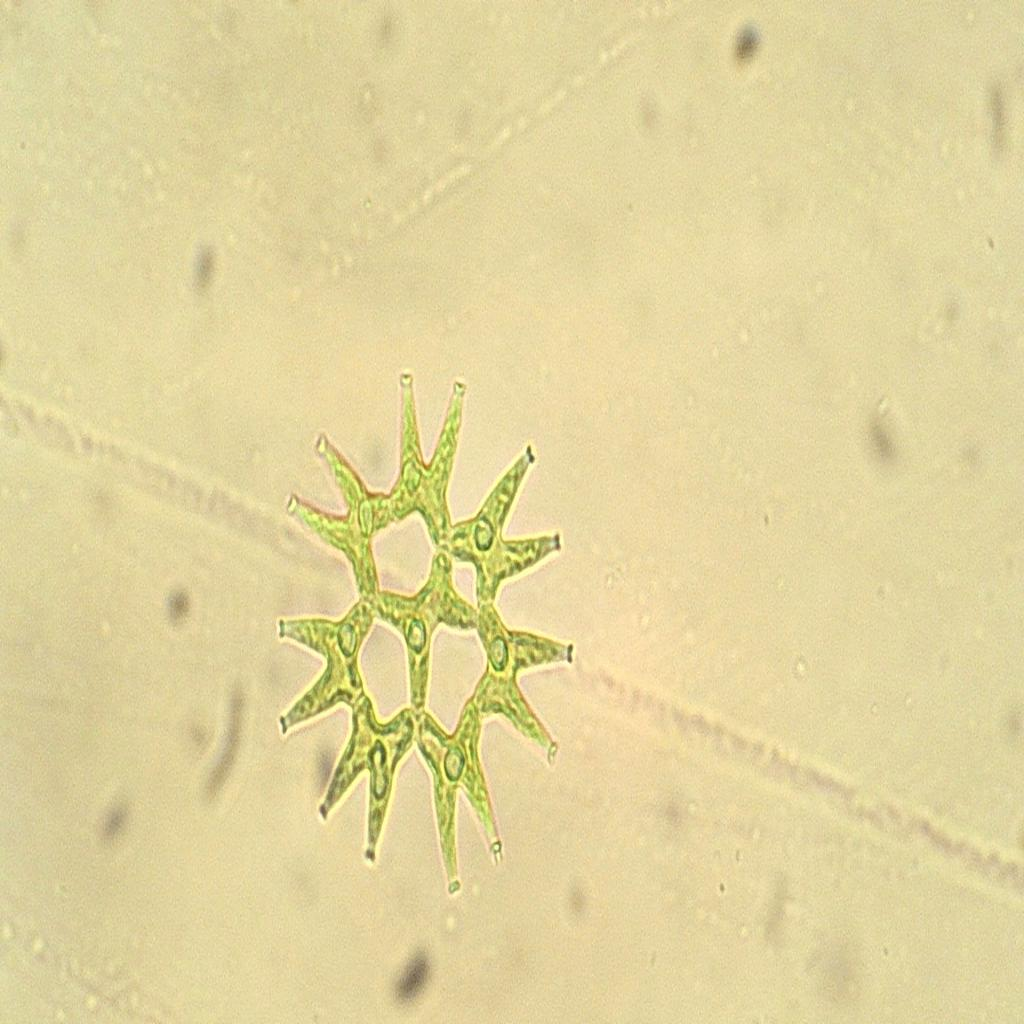Pediastrum_CTH: (258, 350, 598, 925)
